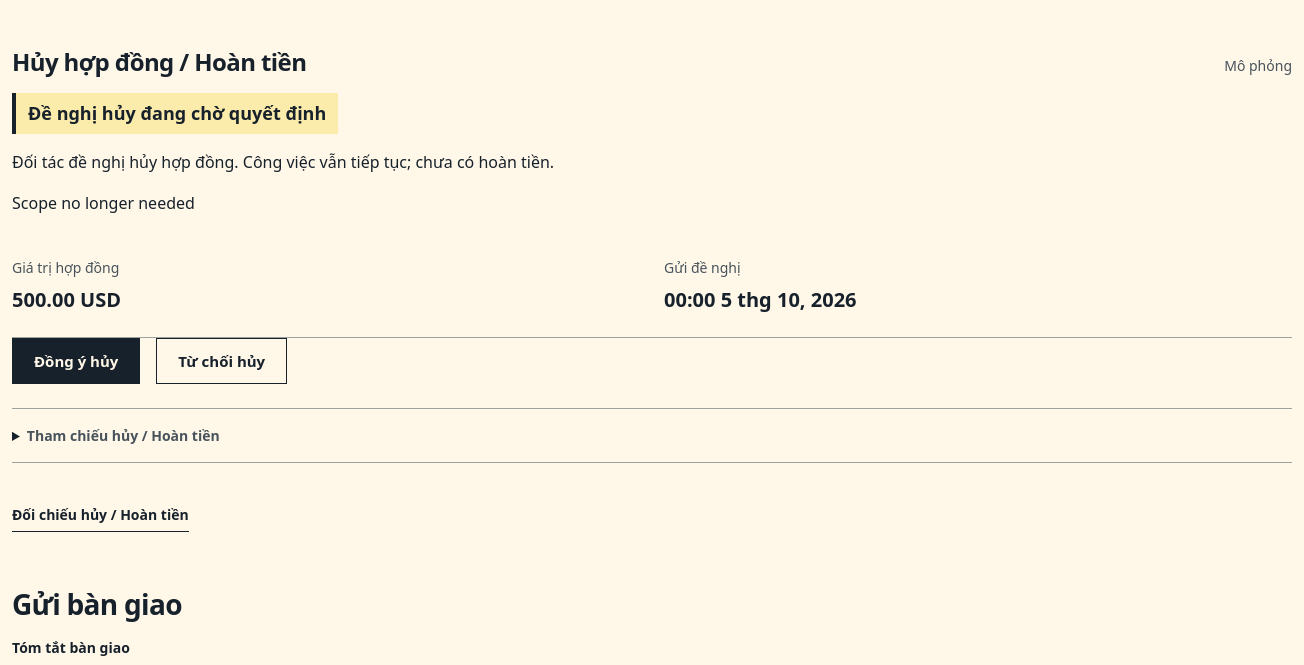
P0 contract cancellation and refund › reconciles lost ACCEPT response by reading refund state without repeating the decision
The image size is (1304, 665).
(page scrolled)
Click the button "Đồng ý hủy".
click(76, 361)  # box [12,338,140,384]
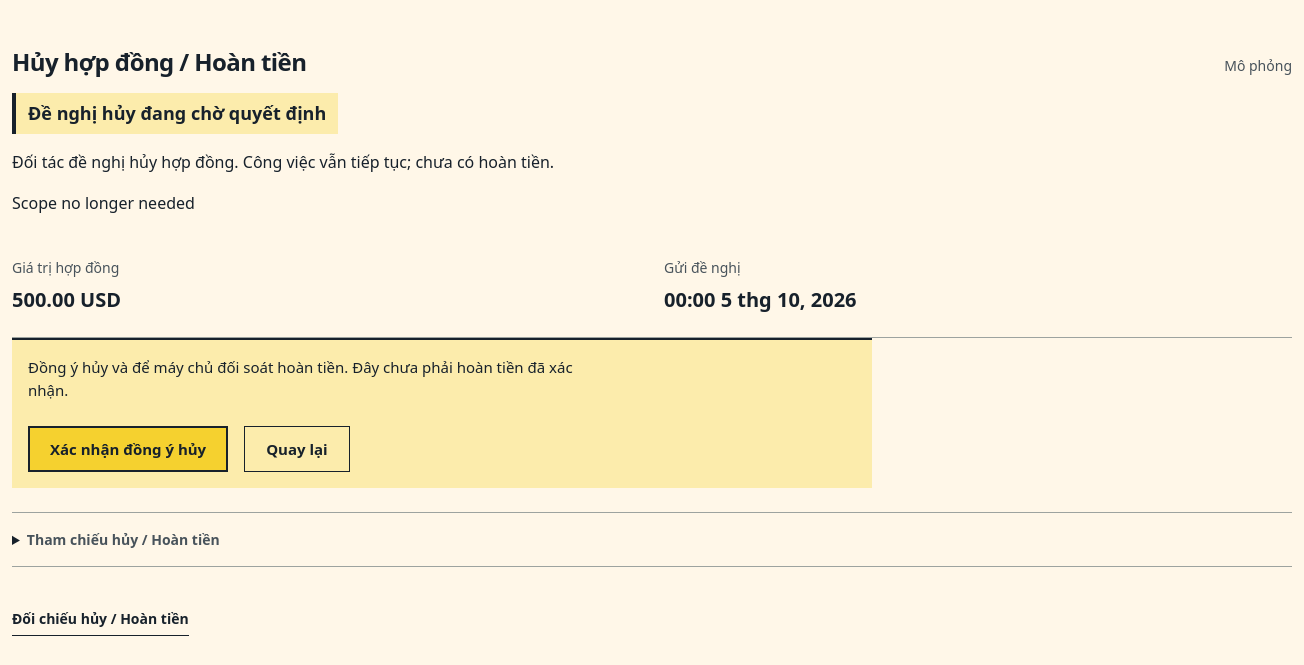
Click the button "Xác nhận đồng ý hủy".
click(128, 449)  # box [28,426,228,472]
(page scrolled)
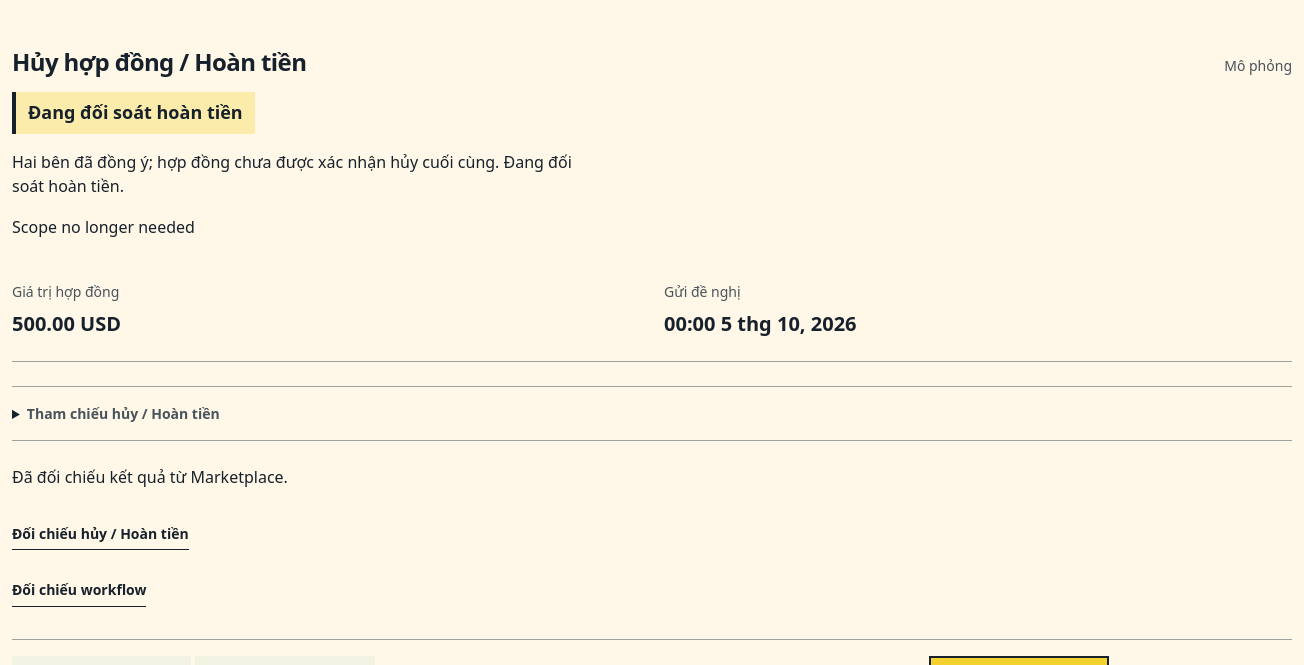
Expected: the text "chưa được xác nhận hủy cuối cùng" is shown, [12,151,504,173]
